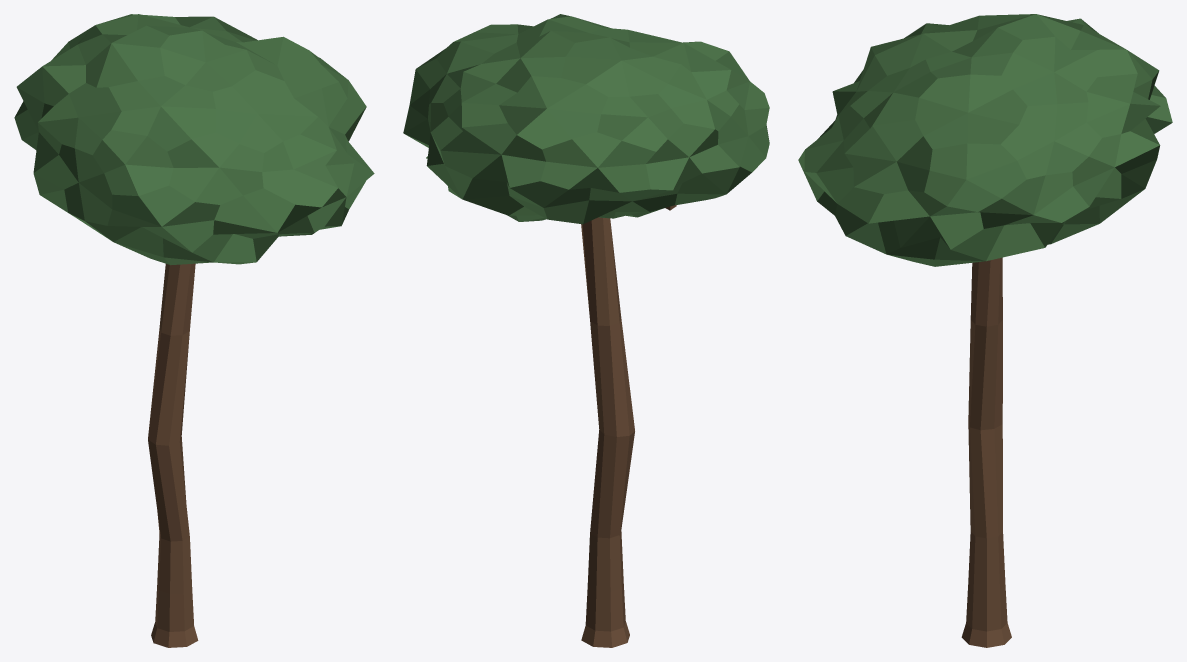
File: tall_tree.fbx
3 renders of one model, left to right at view 1: azimuth 30°, elevation 25°; view 2: azimuth 150°, elevation 25°; view 3: azimuth 270°, elevation 25°, orthographic. The views are drawn at different scales.
Visible parts, largest first — view 1: Icosphere.002, Cylinder.007; view 2: Icosphere.002, Cylinder.007; view 3: Icosphere.002, Cylinder.007.
Part boxes in pixels (x1=…): Icosphere.002: x1=14, y1=14, x2=374, y2=265; Cylinder.007: x1=148, y1=263, x2=198, y2=647; Icosphere.002: x1=403, y1=14, x2=769, y2=224; Cylinder.007: x1=581, y1=205, x2=676, y2=647; Icosphere.002: x1=798, y1=14, x2=1172, y2=266; Cylinder.007: x1=961, y1=257, x2=1011, y2=647.
Size of the model in its own units: 830 by 1487 by 834.
